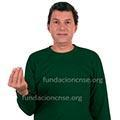Q: (6, 52, 32, 107)
